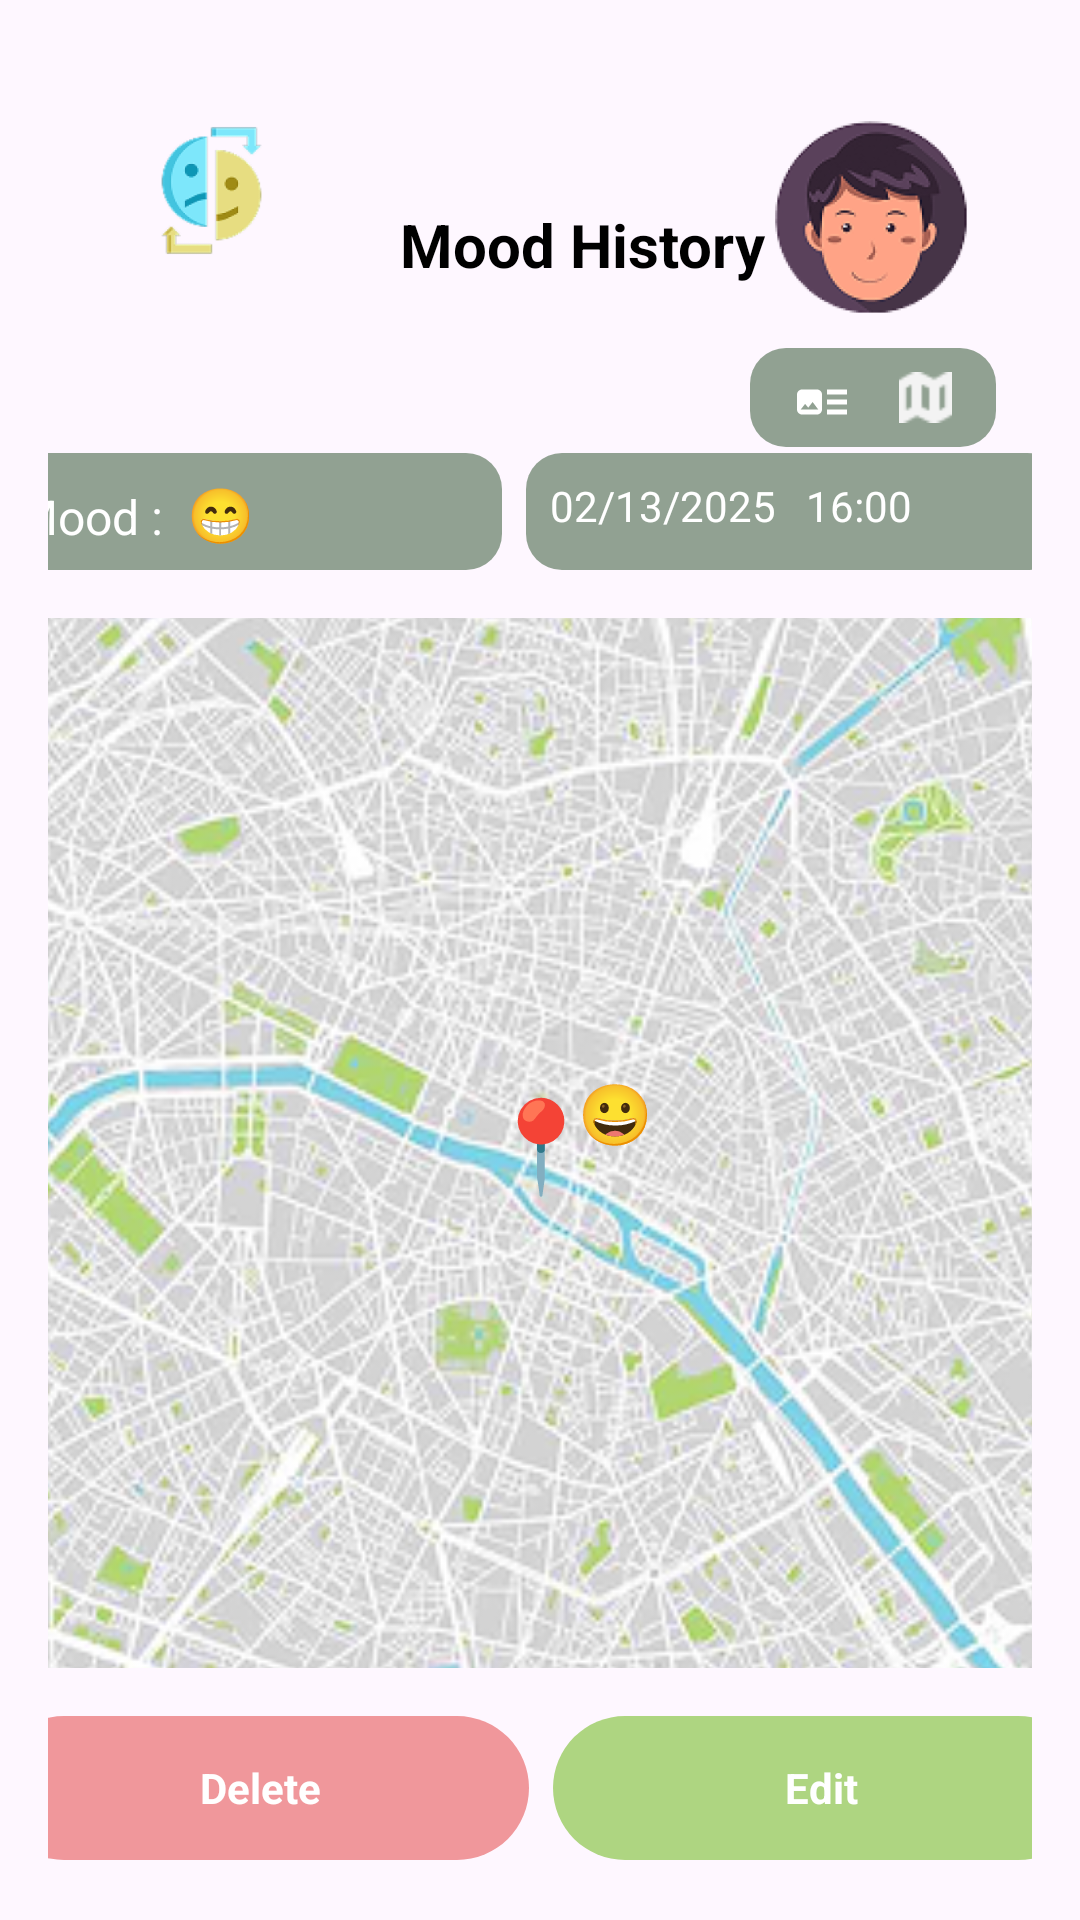

Icon click points for this 1080 × 1920 phone screenshot, format (x,y):
list view: (822,402)
map view: (925,397)
